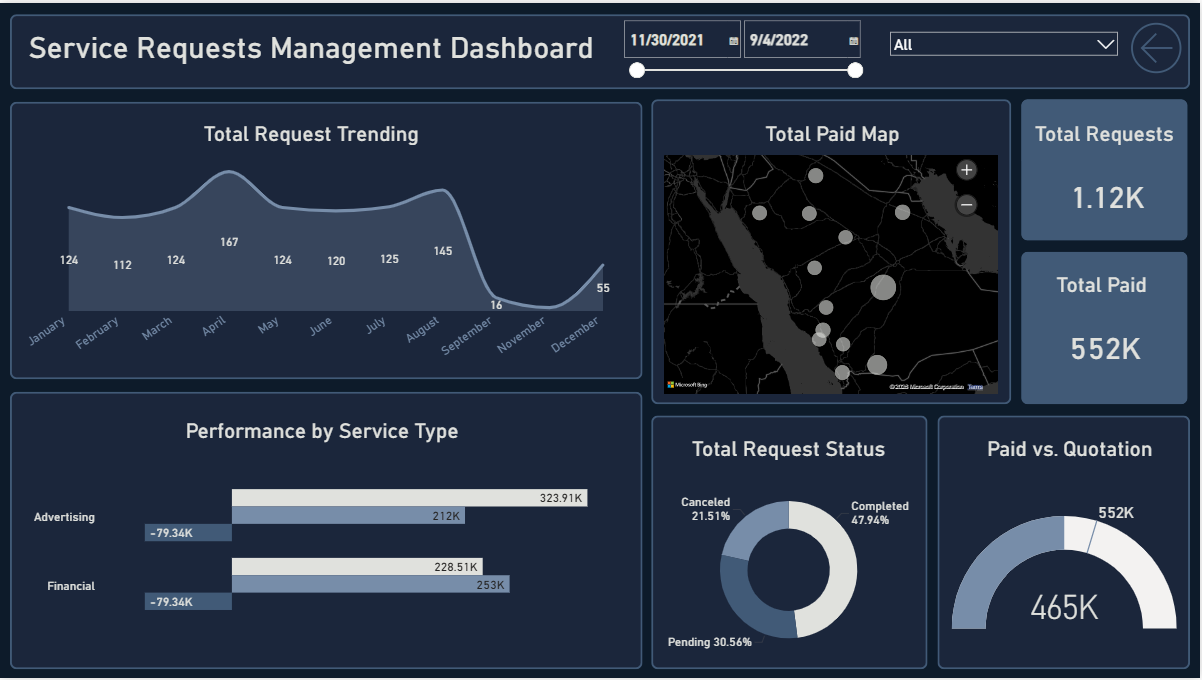

The dashboard page shown, as its layout file describes it:
{"tool":"powerbi","page":{"name":"Service Request","canvas":[1920,1080],"ordinal":1},"visuals":[{"type":"shape","box":[16,622,1012,444],"z":0},{"type":"shape","box":[1500,660,404,406],"z":1000},{"type":"shape","box":[1042,660,442,406],"z":2000},{"type":"shape","box":[1042,154,576,488],"z":3000},{"type":"shape","box":[16,18,1888,120],"z":4000},{"type":"shape","box":[16,158,1012,444],"z":5000},{"type":"shape","box":[1634,154,266,226],"z":6000},{"type":"textbox","box":[36,38,924,82],"z":7000},{"type":"slicer","fields":{"Values":["Locations.Province"]},"box":[1414,36,384,64],"z":8000},{"type":"slicer","fields":{"Values":["Locations.Date"]},"box":[986,18,410,124],"z":9000},{"type":"actionButton","box":[1800,18,100,108],"z":10000},{"type":"shape","box":[1634,398,266,244],"z":11000},{"type":"cardVisual","fields":{"Data":["Measuress.Total Request"]},"box":[1668,238,208,142],"z":12000},{"type":"textbox","box":[1646,184,242,54],"z":13000},{"type":"textbox","box":[1646,426,242,54],"z":14000},{"type":"cardVisual","fields":{"Data":["Sum(Request_Status.Paid Amount)"]},"box":[1668,480,200,142],"z":15000},{"type":"map","fields":{"Y":["Locations.Lat"],"X":["Locations.Lon"],"Series":["Locations.Province"],"Size":["Measuress.Total Paid"]},"box":[1058,238,544,392],"z":16000},{"type":"textbox","box":[1058,184,548,54],"z":17000},{"type":"stackedAreaChart","fields":{"Y":["Measuress.Total Request"],"Category":["Locations.Date.Variation.Date Hierarchy.Month"]},"box":[36,212,968,372],"z":18000},{"type":"textbox","box":[224,184,548,54],"z":19000},{"type":"clusteredBarChart","fields":{"Category":["Service_Type.Service Type"],"Y":["Measuress.Total Paid","Measuress.Total Qoutation","Sum(Measuress.Total Pending)"]},"box":[48,666,968,414],"z":20000},{"type":"textbox","box":[292,660,480,74],"z":21000},{"type":"gauge","fields":{"Y":["Measuress.Total Qoutation"],"TargetValue":["Measuress.Total Paid"]},"box":[1518,748,370,300],"z":22000},{"type":"textbox","box":[1548,688,328,60],"z":23000},{"type":"donutChart","fields":{"Category":["Request_Status.Request Status"],"Y":["Measuress.Total Request"]},"box":[1058,748,408,318],"z":24000},{"type":"textbox","box":[1090,688,344,60],"z":25000}]}

Visuals, with their boxes in screenshot pixels (x1, y1, x2, y2), scaled from the page's 1920x1080 canvas onto the 1202x680 screenshot:
shape: 10/392/644/671
shape: 939/416/1192/671
shape: 652/416/929/671
shape: 652/97/1013/404
shape: 10/11/1192/87
shape: 10/99/644/379
shape: 1023/97/1189/239
textbox: 23/24/601/76
slicer - Locations.Province: 885/23/1126/63
slicer - Locations.Date: 617/11/874/89
actionButton: 1127/11/1189/79
shape: 1023/251/1189/404
cardVisual - Measuress.Total Request: 1044/150/1174/239
textbox: 1030/116/1182/150
textbox: 1030/268/1182/302
cardVisual - Sum(Request_Status.Paid Amount): 1044/302/1169/392
map - Locations.Lat x Locations.Lon: 662/150/1003/397
textbox: 662/116/1005/150
stackedAreaChart - Measuress.Total Request x Locations.Date.Variation.Date Hierarchy.Month: 23/133/629/368
textbox: 140/116/483/150
clusteredBarChart - Service_Type.Service Type x Measuress.Total Paid: 30/419/636/679
textbox: 183/416/483/462
gauge - Measuress.Total Qoutation x Measuress.Total Paid: 950/471/1182/660
textbox: 969/433/1174/471
donutChart - Request_Status.Request Status x Measuress.Total Request: 662/471/918/671
textbox: 682/433/898/471
